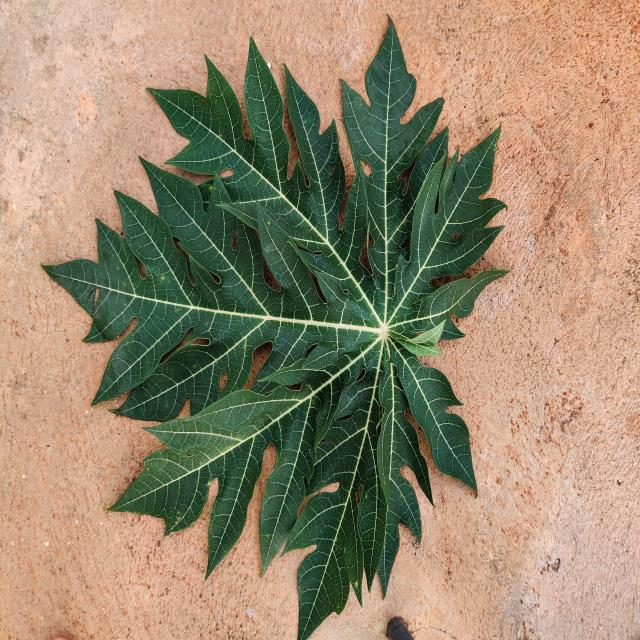papaya: (45, 22, 506, 638)
